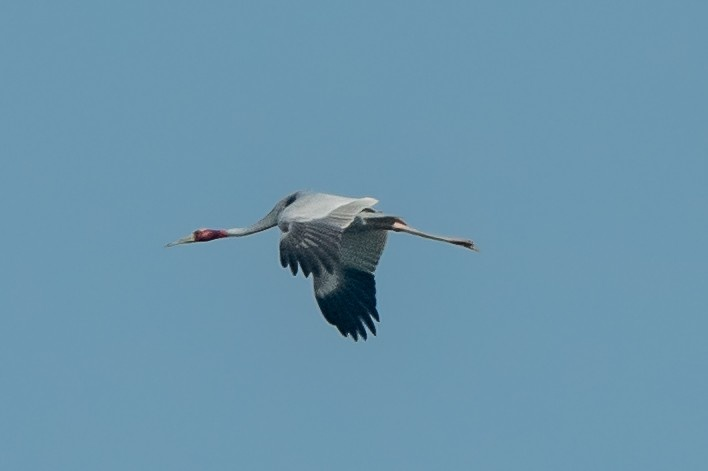crane: (159, 186, 483, 345)
